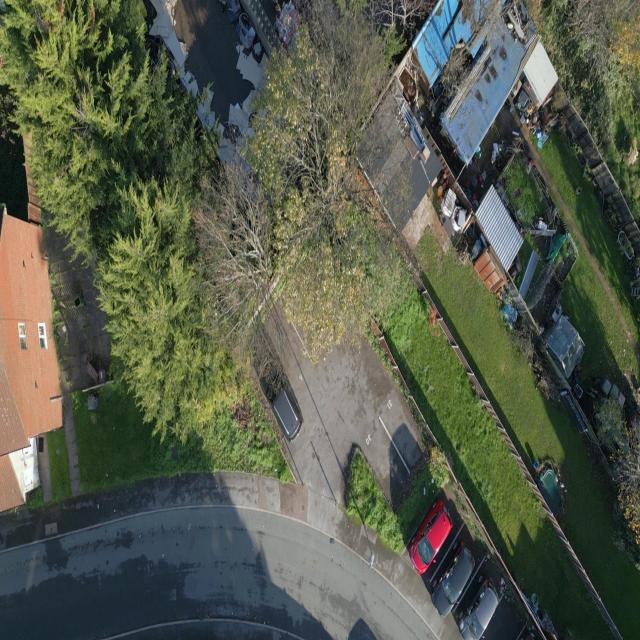Car: (399, 486, 458, 575), (432, 542, 476, 618), (458, 582, 500, 640), (270, 387, 302, 443)
